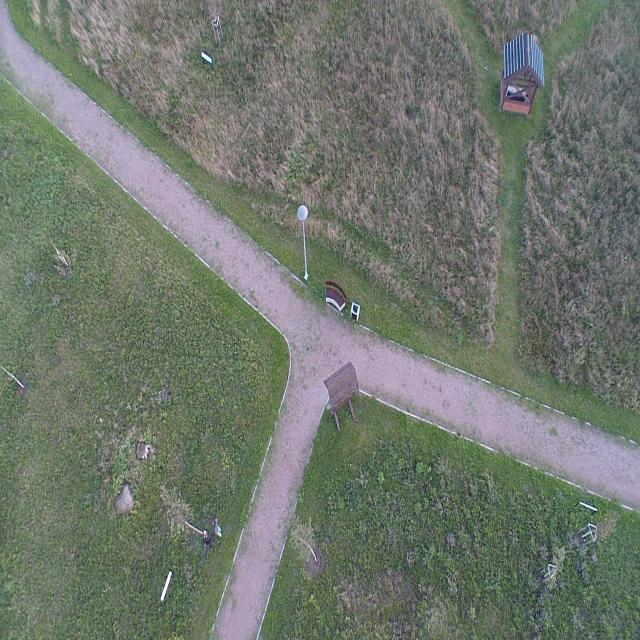p3rson: (211, 518, 222, 538), (203, 530, 213, 551)
